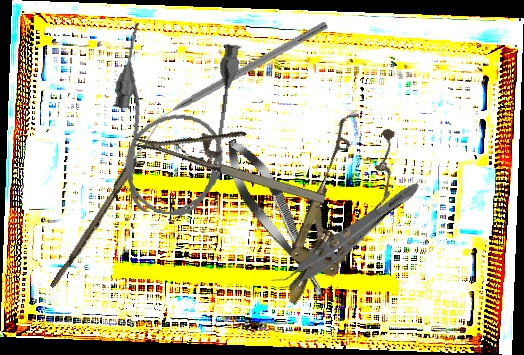Cannula: (101, 21, 243, 221)
Hook Surgical: (141, 19, 330, 130)
Micro Scissor: (214, 131, 339, 309)
Needle Holder: (133, 99, 337, 210)
Speculum: (255, 106, 416, 321)
Surgical Spoon: (49, 112, 167, 292)
Tissue Forceps: (269, 169, 424, 302)
